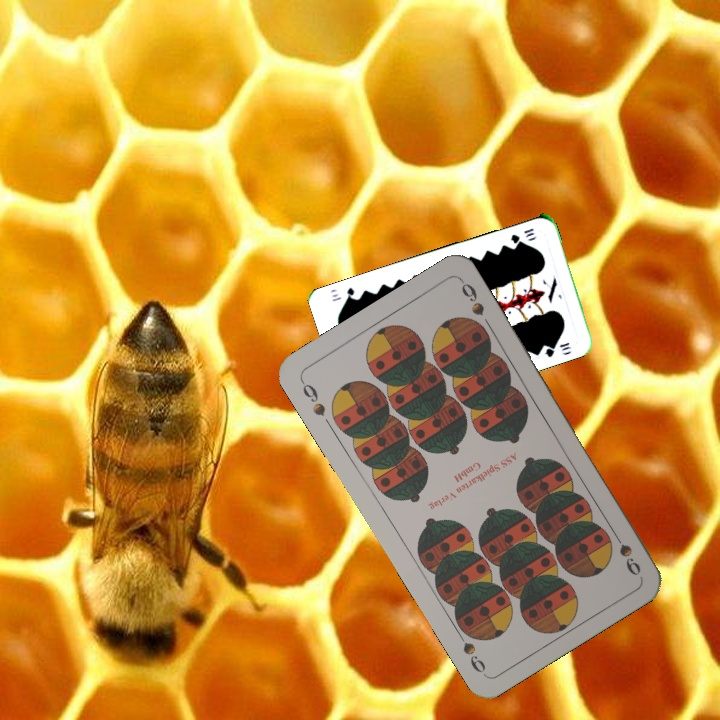G10: (507, 224, 536, 246)
S9: (607, 524, 644, 579), (296, 376, 328, 419)
